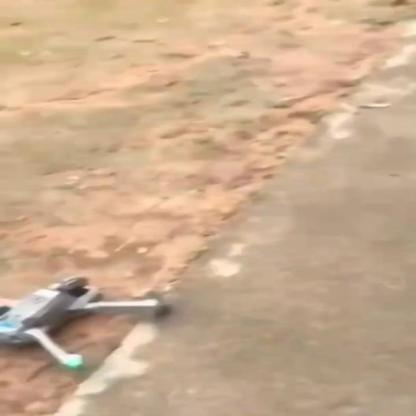drone: (0, 275, 174, 370)
